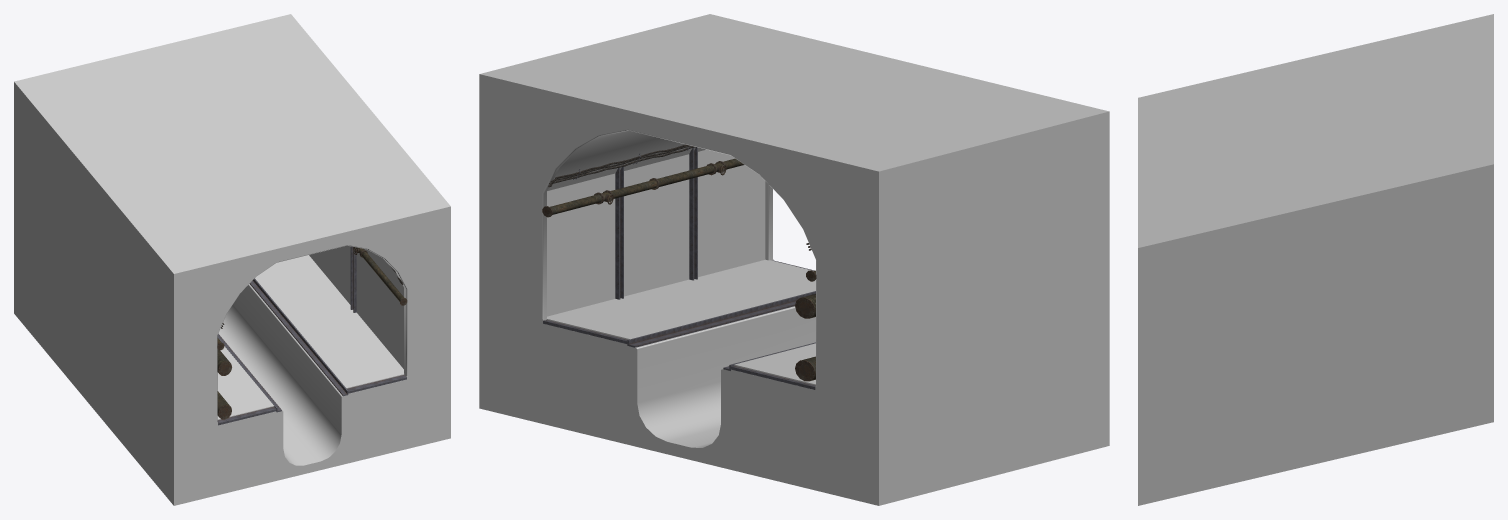
File: SM_Sewer_Tunnel_F.fbx
The picture shows the model from 3 angles, left to right: view 1: azimuth 30°, elevation 25°; view 2: azimuth 150°, elevation 25°; view 3: azimuth 270°, elevation 25°; orthographic projection. The views are drawn at different scales.
Visible parts, largest first — view 1: Ceiling, Base, Wall_Left, Wall_Right, Bulks_floor, Halo_Front, Pipes_Small, Pipes_Big; view 2: Ceiling, Base, Wall_Left, Wall_Right, Halo_Back, Bulks_floor, Bulks_Wall, Pipes_Small, Rubber_Right, Pipes_Big; view 3: Ceiling, Wall_Right, Base.
Boxes of the visible parts, x1=… form: Ceiling: x1=14, y1=14, x2=450, y2=346; Base: x1=14, y1=241, x2=450, y2=505; Wall_Left: x1=14, y1=154, x2=215, y2=433; Wall_Right: x1=309, y1=245, x2=450, y2=375; Bulks_floor: x1=217, y1=278, x2=406, y2=425; Halo_Front: x1=215, y1=242, x2=409, y2=424; Pipes_Small: x1=217, y1=247, x2=407, y2=350; Pipes_Big: x1=217, y1=349, x2=231, y2=419; Ceiling: x1=479, y1=14, x2=1109, y2=275; Base: x1=479, y1=259, x2=1109, y2=505; Wall_Left: x1=819, y1=216, x2=1109, y2=401; Wall_Right: x1=479, y1=149, x2=765, y2=318; Halo_Back: x1=538, y1=126, x2=819, y2=388; Bulks_floor: x1=543, y1=260, x2=815, y2=389; Bulks_Wall: x1=615, y1=147, x2=697, y2=299; Pipes_Small: x1=542, y1=158, x2=816, y2=281; Rubber_Right: x1=548, y1=144, x2=695, y2=187; Pipes_Big: x1=795, y1=294, x2=815, y2=381; Ceiling: x1=1138, y1=14, x2=1493, y2=328; Wall_Right: x1=1138, y1=245, x2=1493, y2=425; Base: x1=1138, y1=341, x2=1493, y2=505.
Size of the model in its own units: 1000 by 1060 by 1000.
